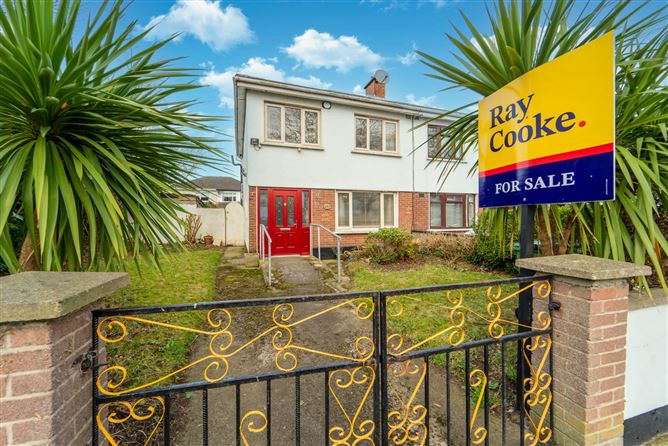property sign: (452, 26, 624, 215)
